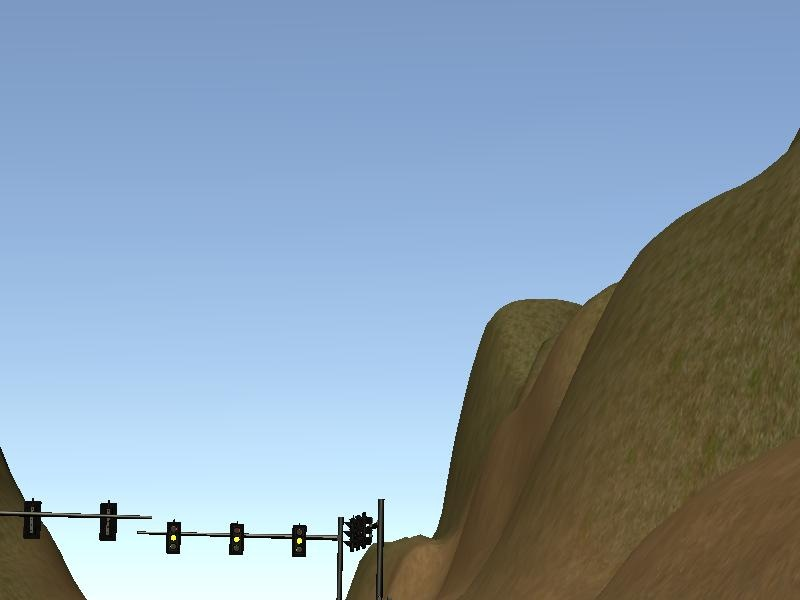yellow: (166, 519, 183, 555), (229, 521, 246, 557), (293, 525, 310, 561)
